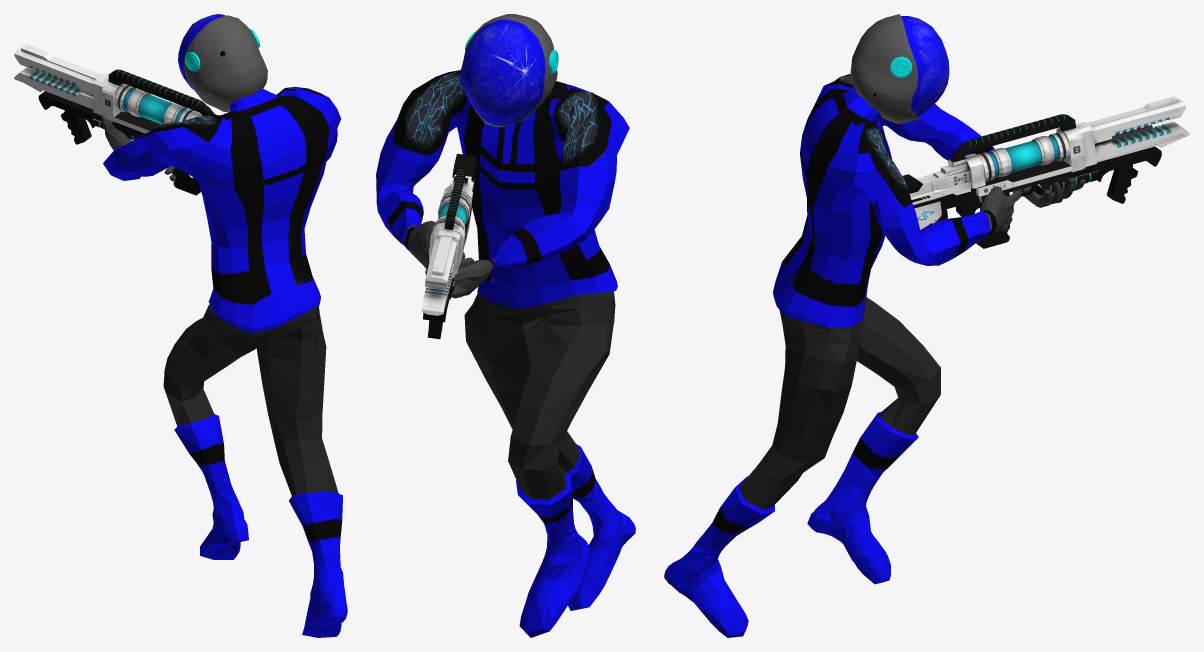
3 views of the same model, side by side, from view 1: azimuth 30°, elevation 25°; view 2: azimuth 150°, elevation 25°; view 3: azimuth 270°, elevation 25° (orthographic). The views are drawn at different scales.
Visible parts, largest first — view 1: Brazos2, Piernas1, Line0011, Cabeza1; view 2: Brazos2, Piernas1, Cabeza1, Line0011; view 3: Piernas1, Brazos2, Line0011, Cabeza1.
Part boxes in pixels (x1,y1,x2,y2): Brazos2: (101,86,341,333); Piernas1: (163,304,347,637); Line0011: (14,44,214,195); Cabeza1: (178,14,267,111); Brazos2: (376,70,629,309); Piernas1: (464,291,635,637); Cabeza1: (460,14,558,127); Line0011: (421,153,477,339); Piernas1: (664,297,940,637); Brazos2: (773,74,1085,327); Line0011: (902,96,1189,248); Cabeza1: (850,14,949,124).
Bounding box in the file's own units: 65.75 × 175 × 138.
